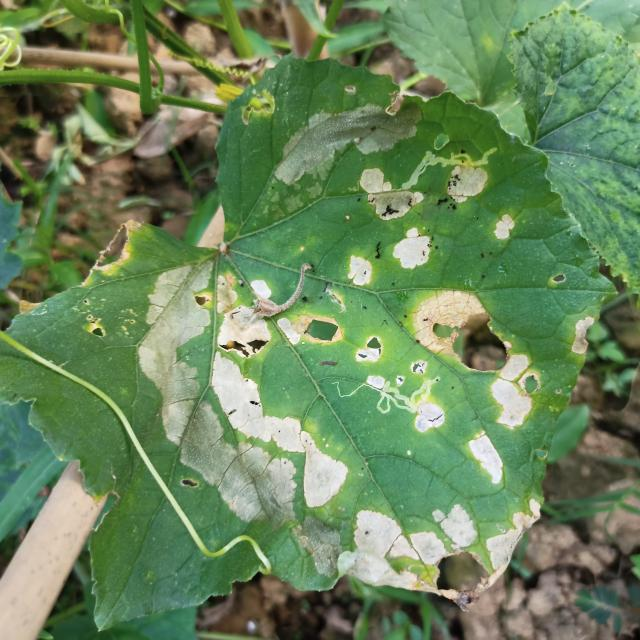disease_cucumber: (138, 256, 414, 594), (412, 287, 584, 585), (278, 98, 523, 288)
